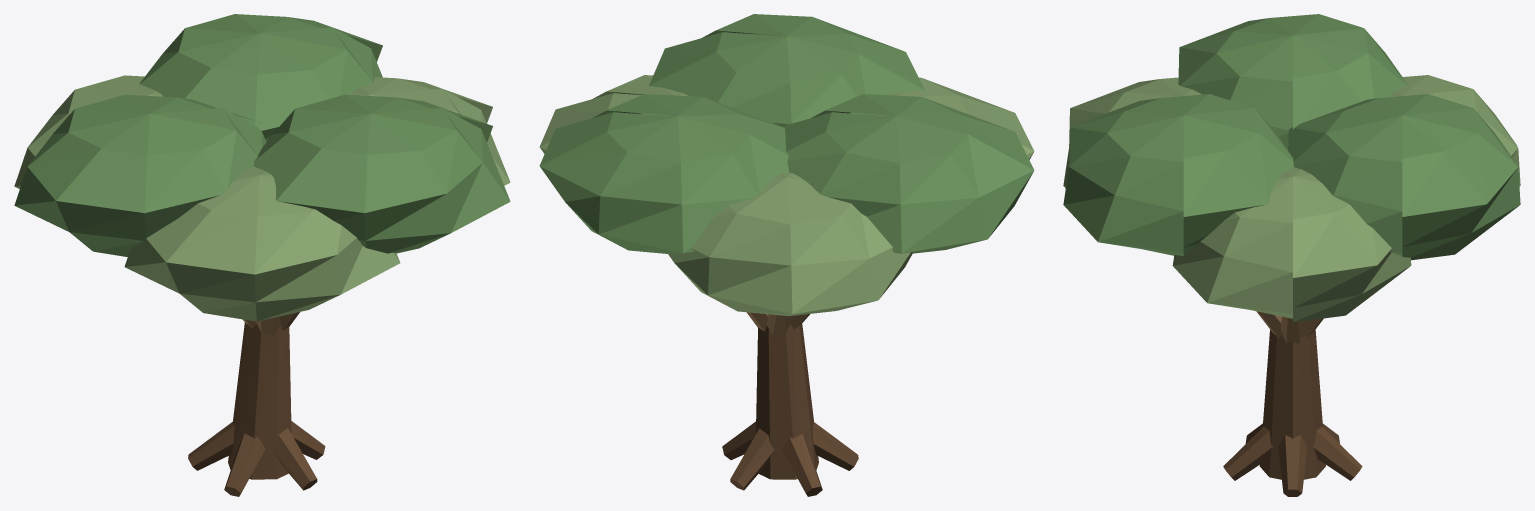
File: jungle_umbrella.glb
3 views of the same model, side by side, from view 1: azimuth 30°, elevation 25°; view 2: azimuth 150°, elevation 25°; view 3: azimuth 270°, elevation 25° (orthographic).
Visible parts, largest first — view 1: WoodlandMesh; view 2: WoodlandMesh; view 3: WoodlandMesh.
Part boxes in pixels (x1=…): WoodlandMesh: x1=14, y1=14, x2=510, y2=496; WoodlandMesh: x1=539, y1=14, x2=1034, y2=496; WoodlandMesh: x1=1063, y1=14, x2=1520, y2=496.
Bounding box in the file's own units: 6.68 × 5.35 × 5.8.
